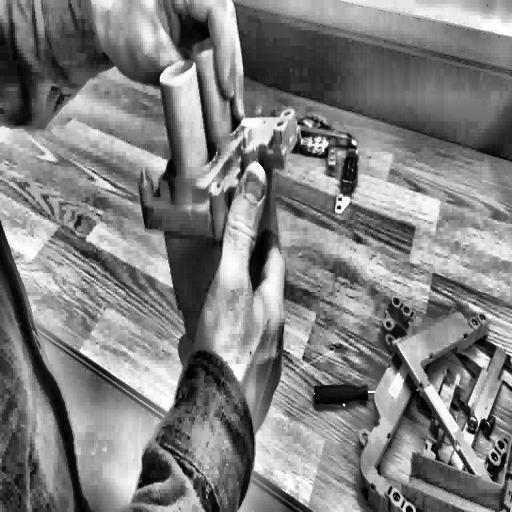connector: (135, 23, 302, 352)
